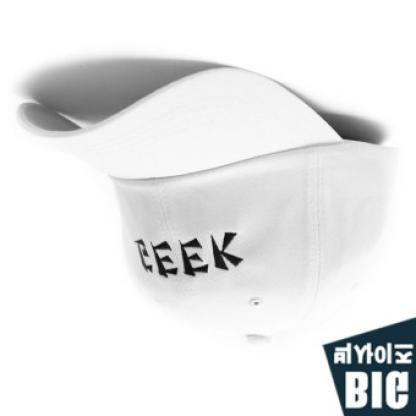cap: (9, 59, 402, 359)
